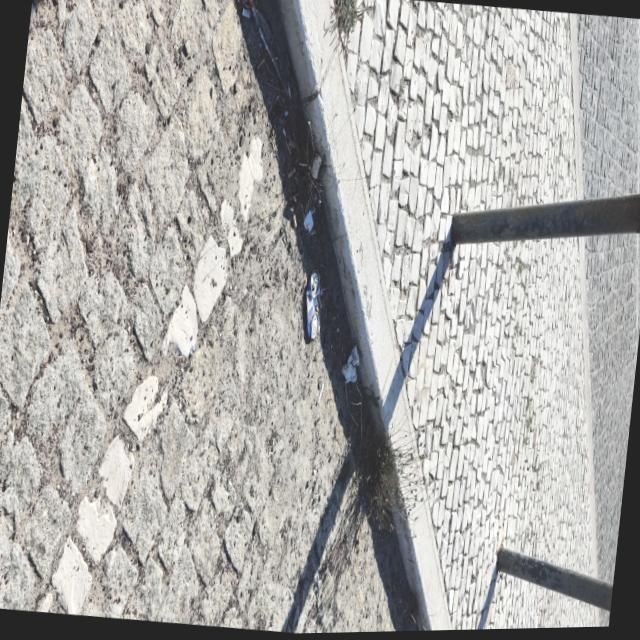Paper: (338, 341, 362, 393), (308, 150, 324, 189), (300, 206, 316, 238), (314, 380, 326, 407)
Plastic: (299, 265, 326, 343)
